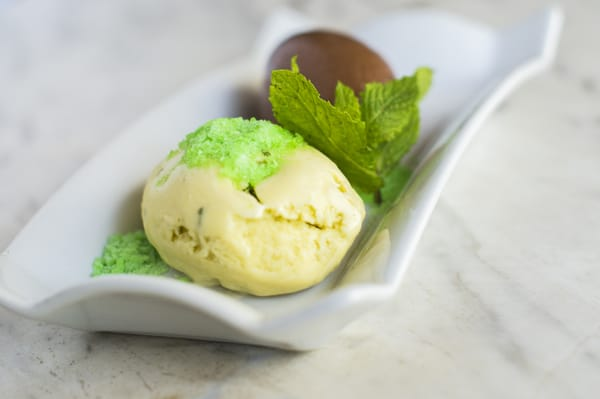sushi: (16, 18, 534, 356)
